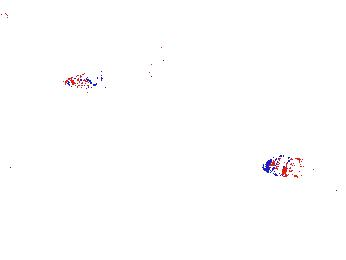X-ray fish: (266, 185, 318, 216), (259, 153, 315, 179), (141, 60, 183, 89)
glassfish: (284, 179, 346, 212)
red belly glassfish: (62, 69, 105, 90)
